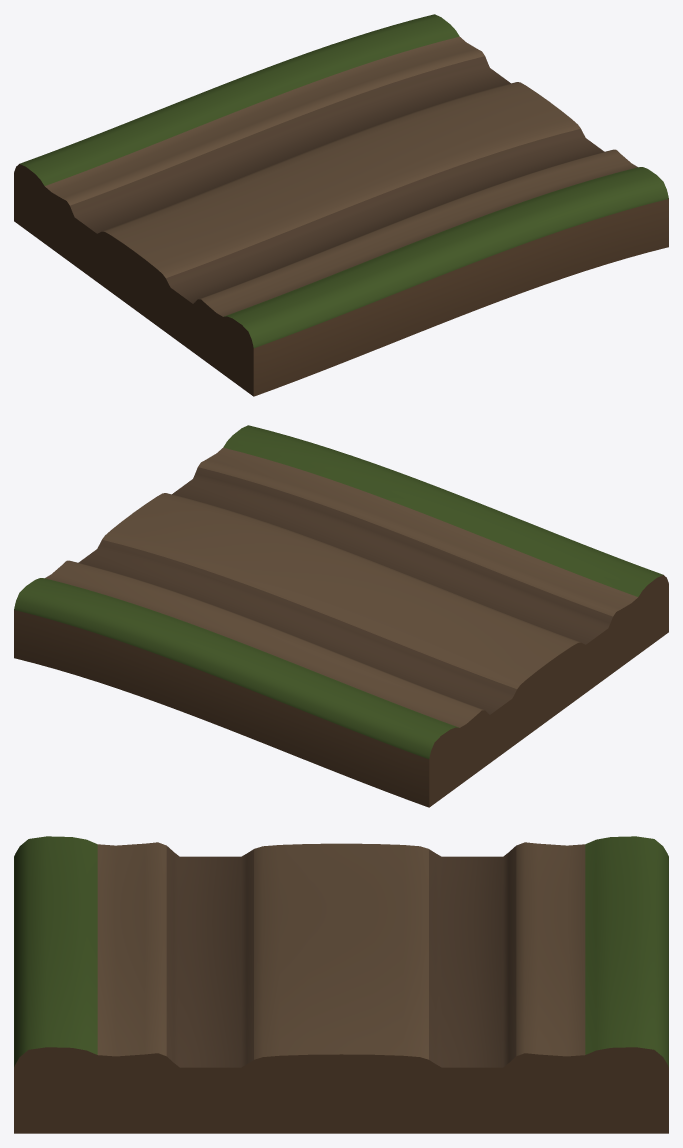
The picture shows the model from 3 angles, top to bottom: view 1: azimuth 30°, elevation 25°; view 2: azimuth 150°, elevation 25°; view 3: azimuth 270°, elevation 25°; orthographic projection. The views are drawn at different scales.
Parts seen in each view (by area): view 1: e0o; view 2: e0o; view 3: e0o.
Boxes of the visible parts, left/top/right/bottom form: e0o: left=14, top=14, right=668, bottom=396; e0o: left=14, top=425, right=668, bottom=807; e0o: left=14, top=836, right=668, bottom=1133.
Bounding box in the file's own units: 9 × 2.31 × 9.
